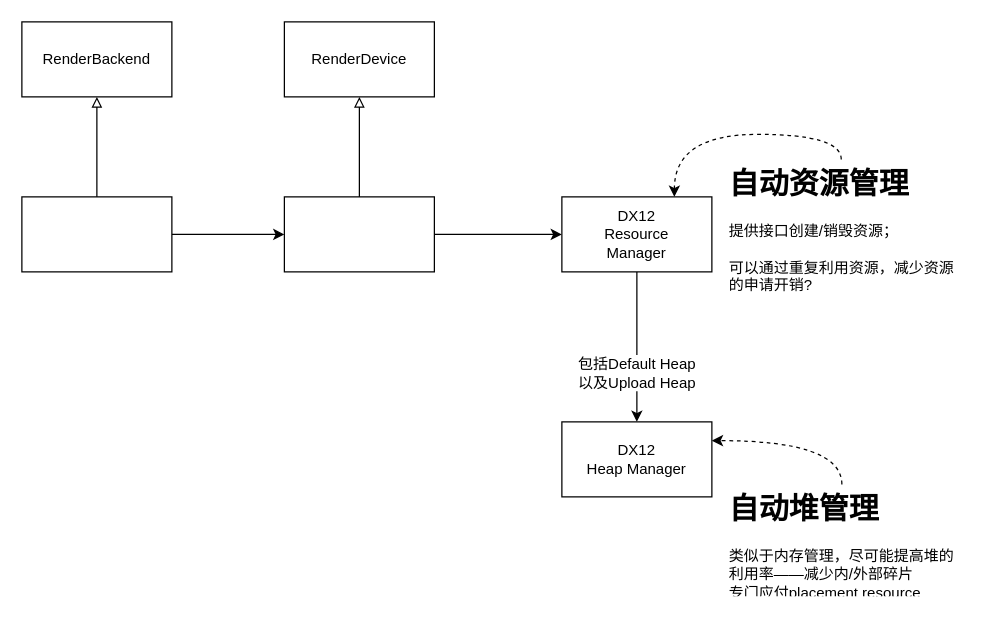
This 983x621 diagram has some shape labels left out. The box of each missing label's shape, as (x1, y1, x2, y2) in pixels:
DX12RenderBackend: (21, 196, 172, 272)
DX12RenderDevice: (283, 196, 434, 272)
